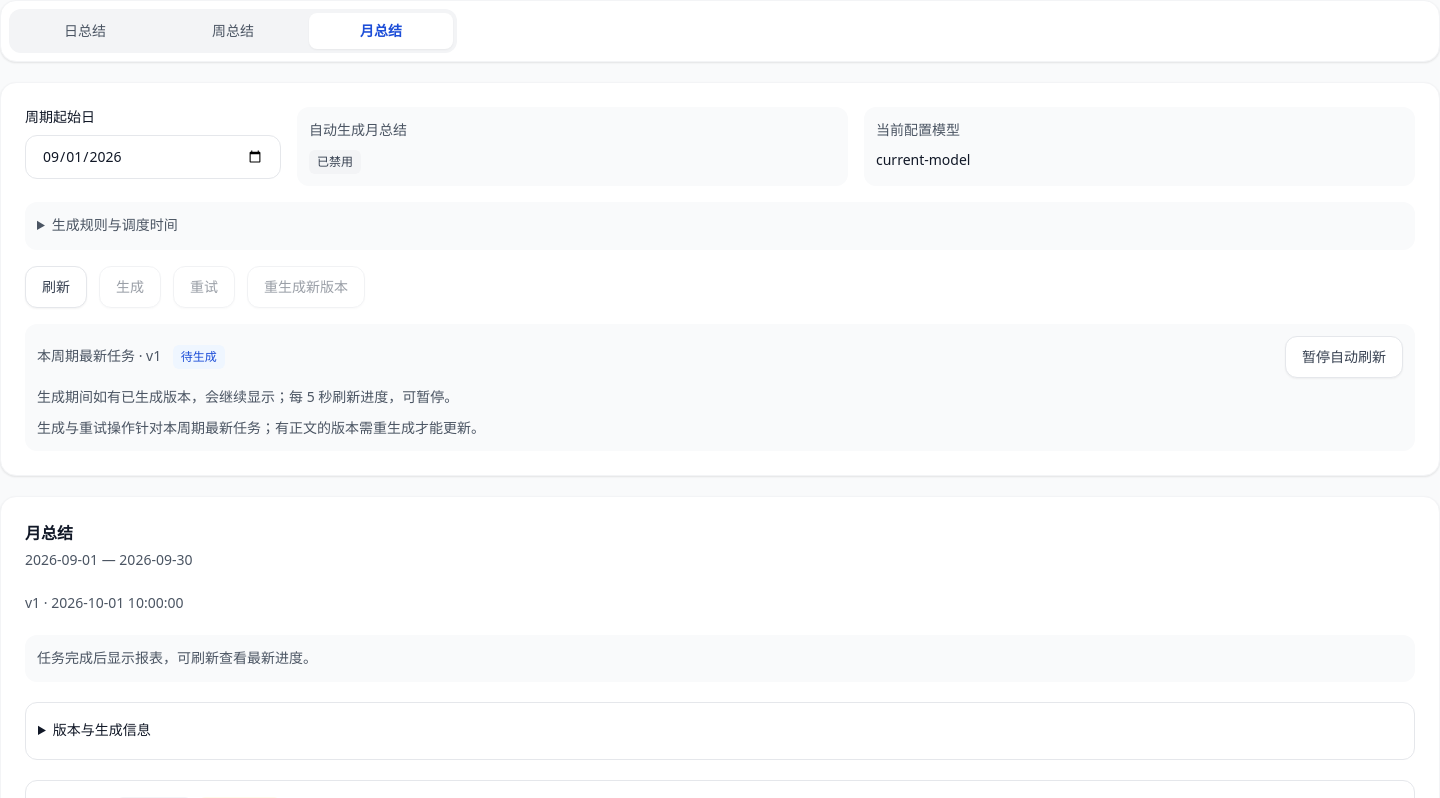
Test: Period report reading order › refreshes the selected text after a queued report completes
The image size is (1440, 798).
Step 1. Click the button "刷新" → {"x": 56, "y": 287}, box [25, 266, 87, 308]
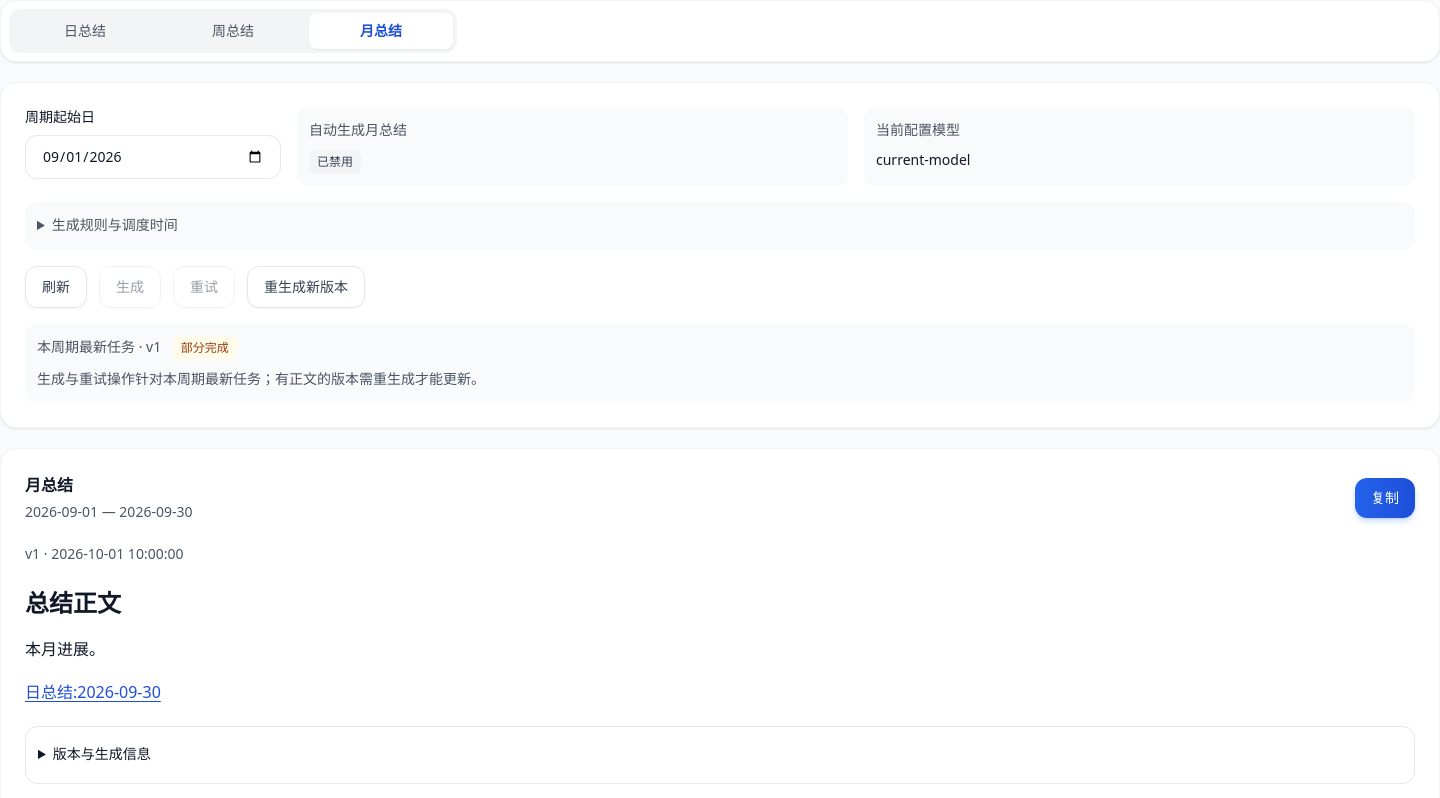
Expected: the element showing "总结正文 本月进展。 日总结:2026-09-30" is shown, [25, 586, 161, 703]
